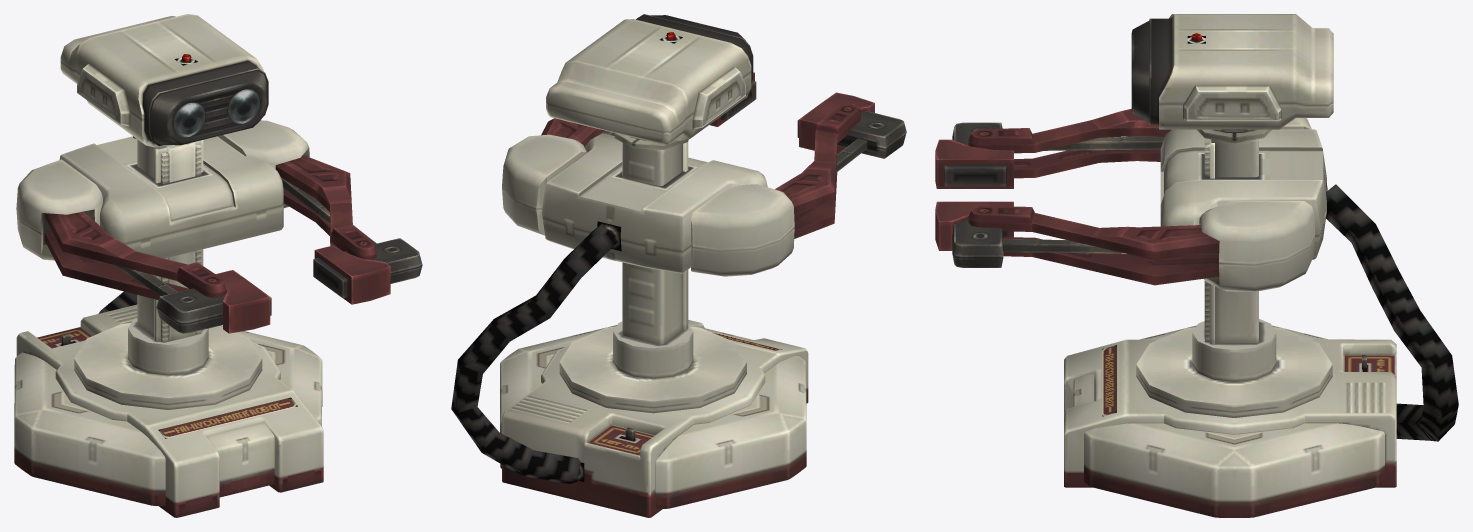
Rendered from wii_-_super_smash_bros_brawl_-_rob_enemies.glb.
3 views of the same model, side by side, from view 1: azimuth 30°, elevation 25°; view 2: azimuth 150°, elevation 25°; view 3: azimuth 270°, elevation 25° (orthographic). The views are drawn at different scales.
Parts seen in each view (by area): view 1: Object_2; view 2: Object_2; view 3: Object_2.
Part boxes in pixels (x1,y1,x2,y2): Object_2: [14, 14, 422, 517]; Object_2: [451, 14, 906, 517]; Object_2: [935, 14, 1458, 517].
Size of the model in its own units: 14.01 by 18.39 by 20.94.
1 material, 1 textured.
